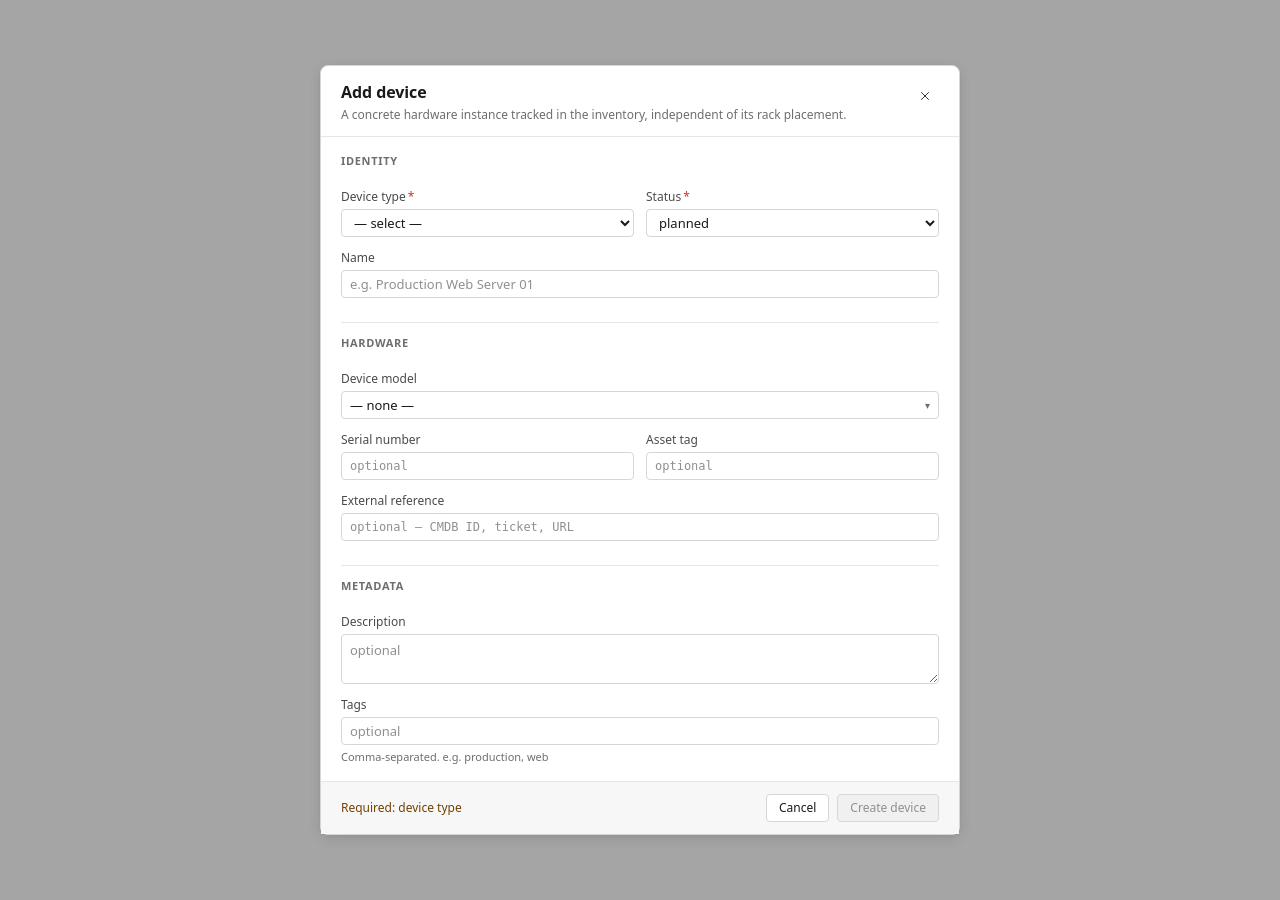
Scenario: DeviceFormModal — add mode › filters device models by selected device type
The width and height of the screenshot is (1280, 900).
Select "server" in the dropdown with test id "field-device-type" at point(488, 223), box [341,209,634,237]
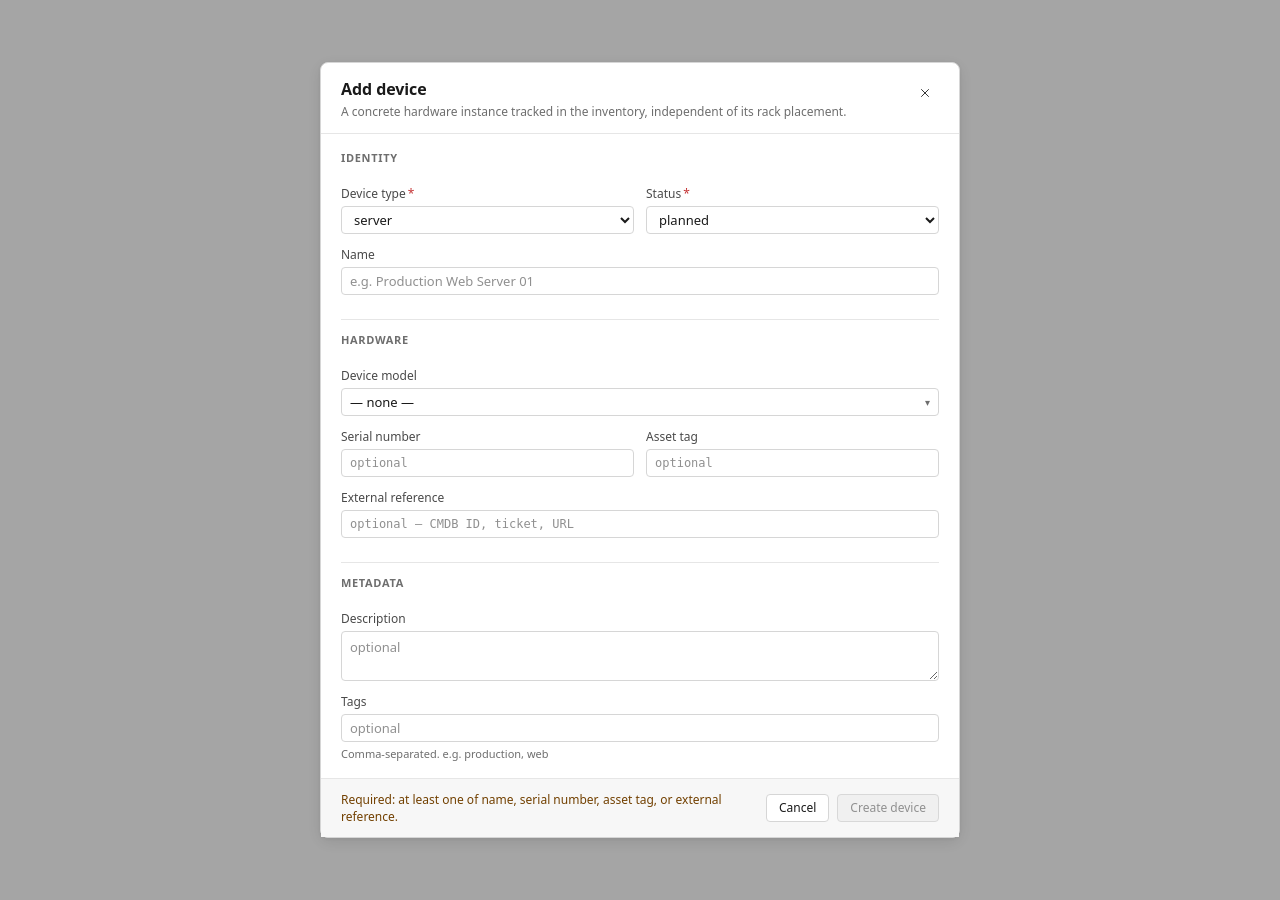
# Open the model searchable-select dropdown
Click the button with test id "field-device-model-trigger".
click(382, 402)  # box [341,388,939,416]
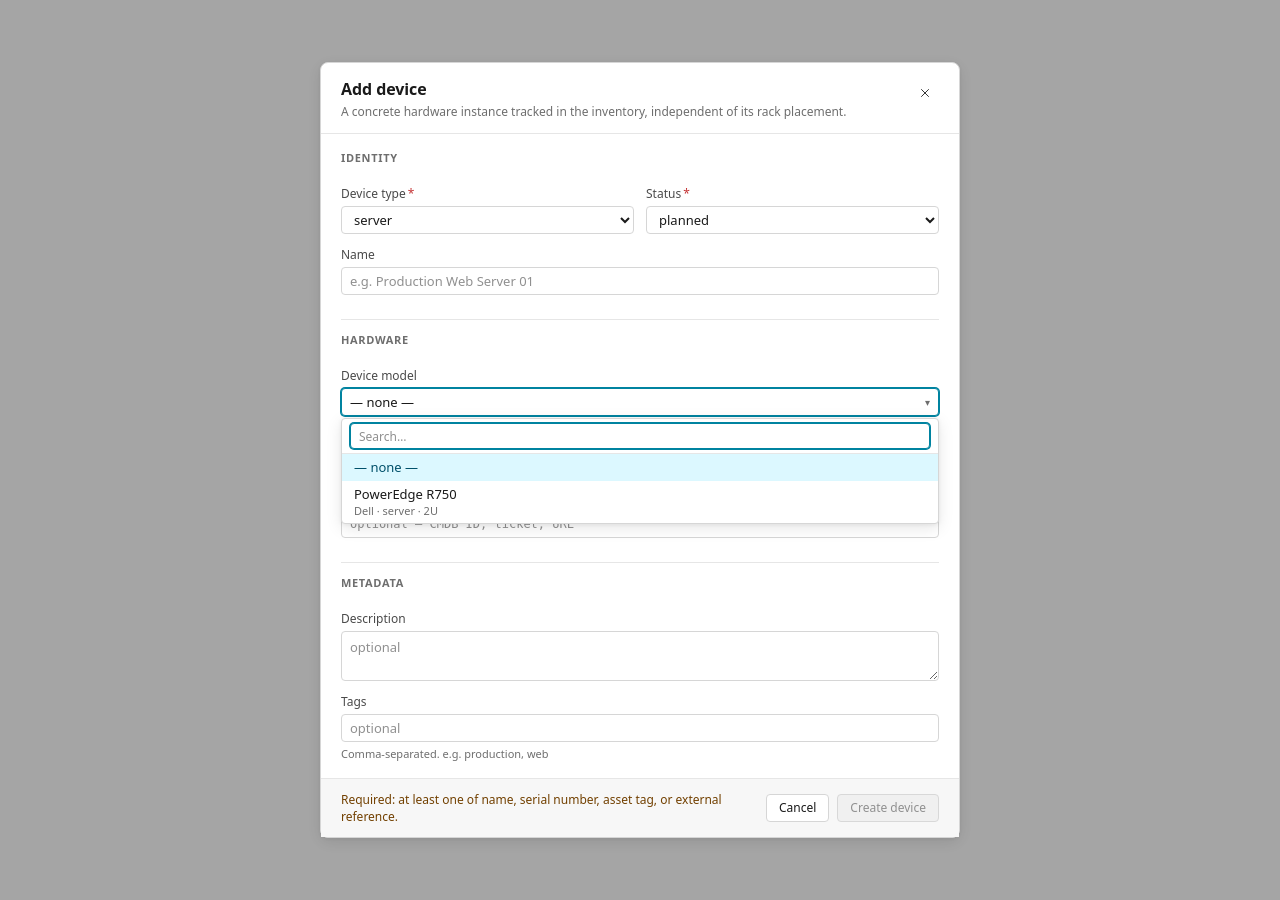
Now the text "PowerEdge R750" is shown, box [354,485,457,503]
